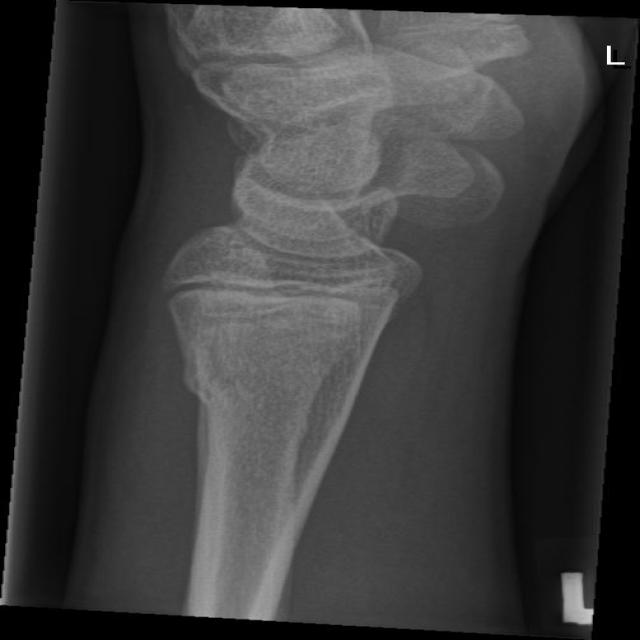fracture: (140, 258, 444, 326)
